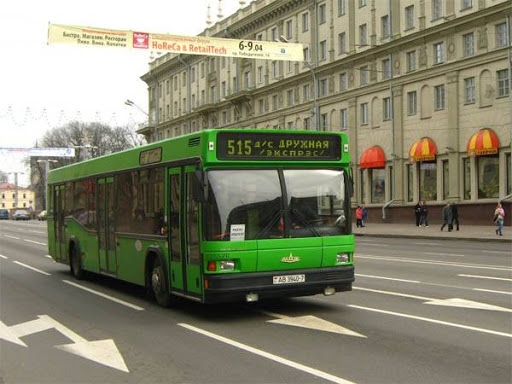bus: (45, 128, 356, 313)
